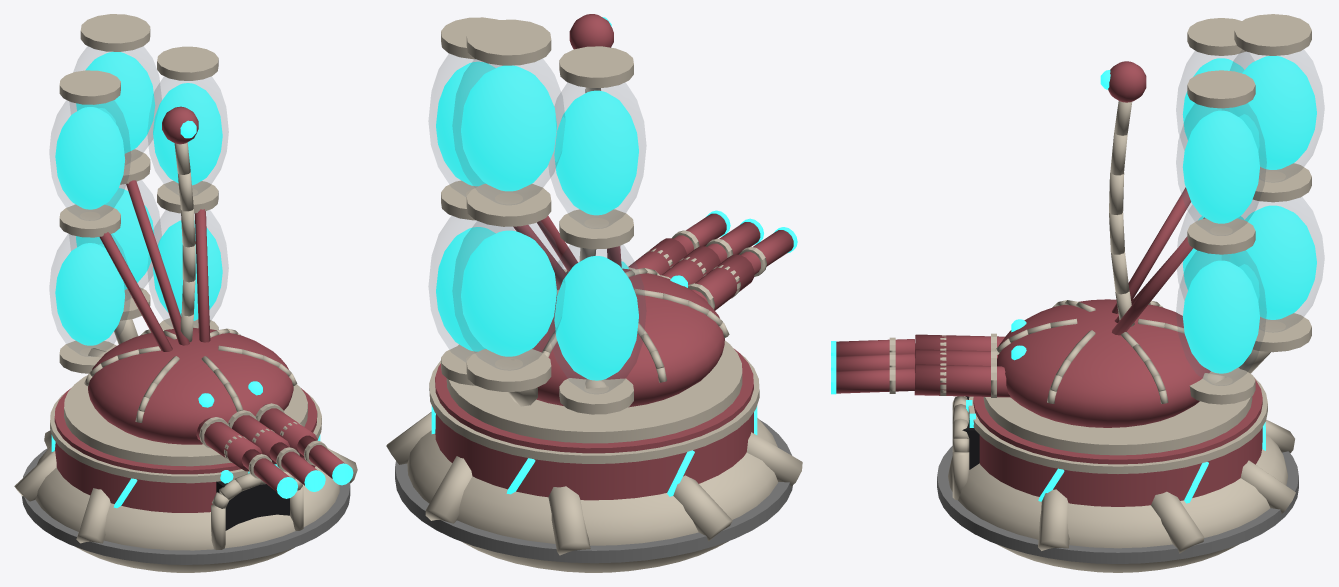
The model's file is Machinegoon_T3_Spitter.glb.
The picture shows the model from 3 angles, left to right: view 1: azimuth 30°, elevation 25°; view 2: azimuth 150°, elevation 25°; view 3: azimuth 270°, elevation 25°; orthographic projection. The views are drawn at different scales.
Visible parts, largest first — view 1: Machinegoon_T3_Spitter_Turret, Machinegoon_T3_Spitter_Base; view 2: Machinegoon_T3_Spitter_Turret, Machinegoon_T3_Spitter_Base; view 3: Machinegoon_T3_Spitter_Turret, Machinegoon_T3_Spitter_Base.
Boxes of the visible parts, x1,y1,x2,y2 form: Machinegoon_T3_Spitter_Turret: (49, 14, 353, 498); Machinegoon_T3_Spitter_Base: (14, 388, 357, 572); Machinegoon_T3_Spitter_Turret: (428, 14, 797, 443); Machinegoon_T3_Spitter_Base: (386, 349, 802, 572); Machinegoon_T3_Spitter_Turret: (831, 14, 1324, 455); Machinegoon_T3_Spitter_Base: (937, 377, 1298, 572).
Bounding box in the file's own units: 3.5 × 5.44 × 4.78.
